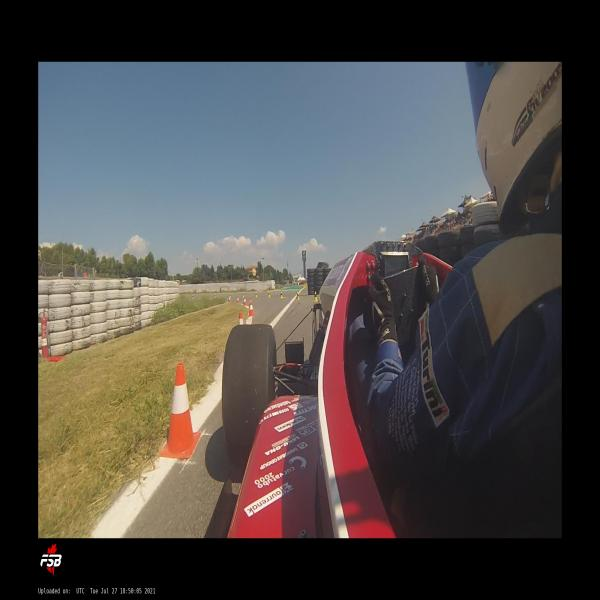orange_cone: (159, 364, 201, 458), (248, 301, 254, 316), (238, 313, 244, 325), (248, 298, 252, 308), (243, 297, 246, 306), (236, 296, 239, 303), (228, 296, 230, 302)
yellow_cone: (296, 291, 300, 300), (314, 291, 317, 301), (280, 292, 283, 298), (268, 292, 270, 298), (255, 292, 257, 297), (242, 292, 244, 297)
